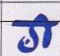i_matra: (38, 13, 51, 48)
